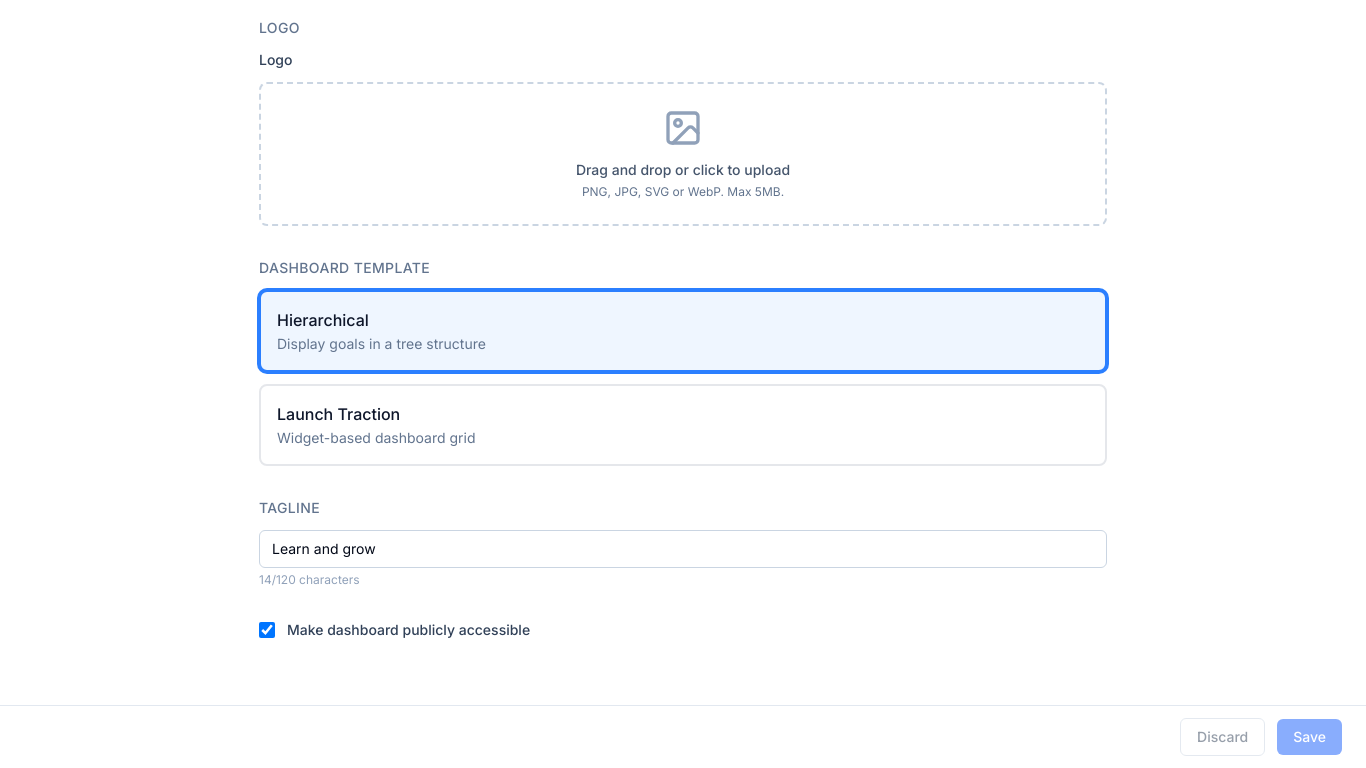
Test: V2Appearance › tagline change marks form as dirty
(page scrolled)
Expected: the button with test id "save-button" is disabled, [1277, 719, 1342, 755]
Type "!" into the field with test id "tagline-input" at (683, 548), box [259, 530, 1107, 568]
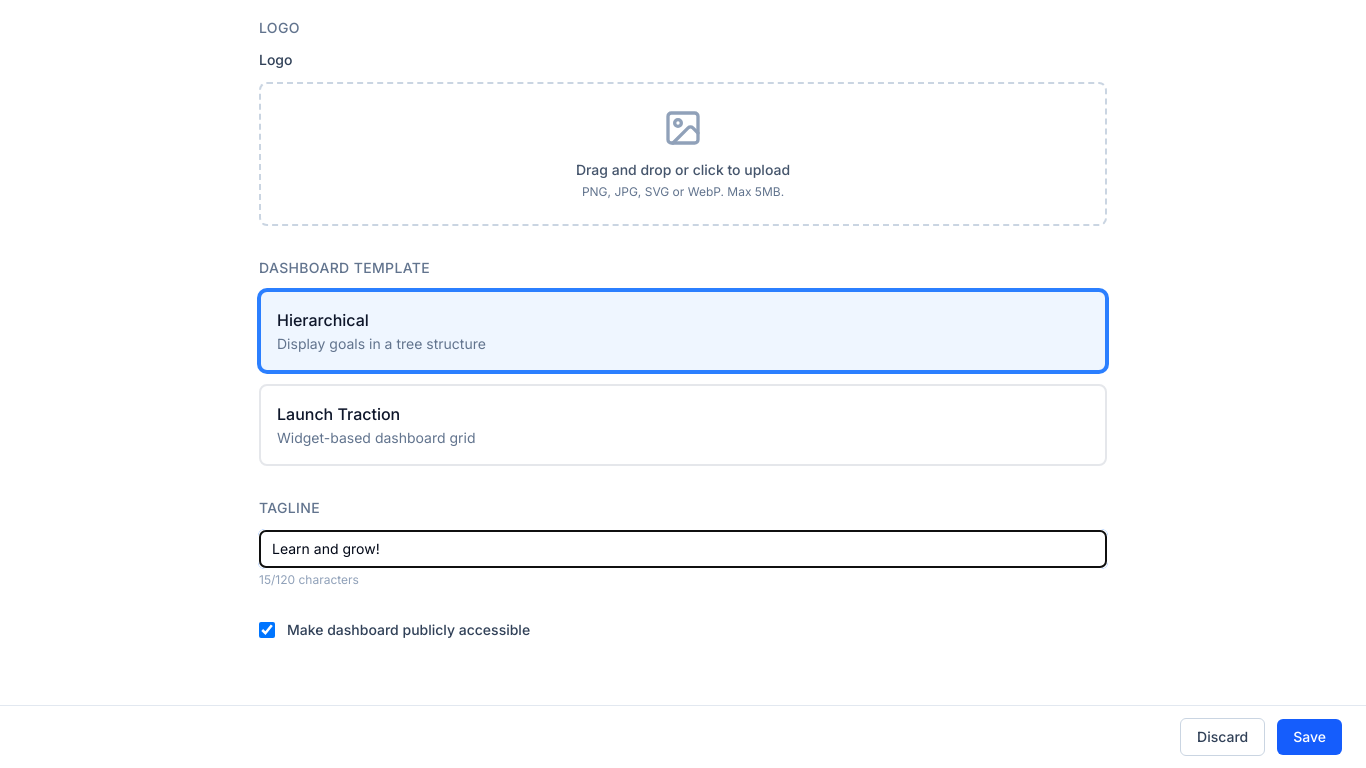
Expected: the button with test id "save-button" is enabled, [1277, 719, 1342, 755]
